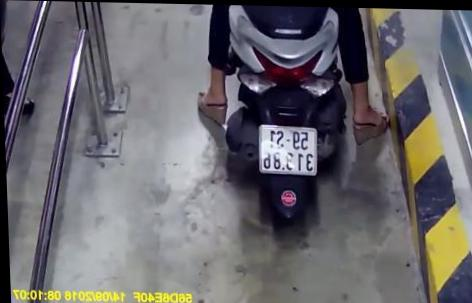License_Plate: (251, 122, 325, 179)
